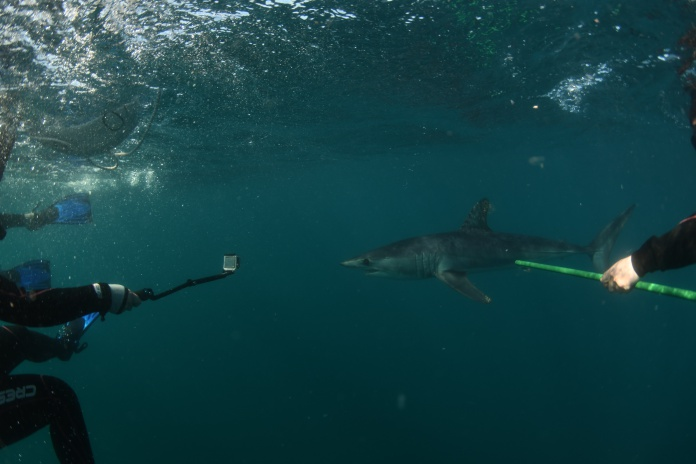Mako: (328, 190, 638, 308)
